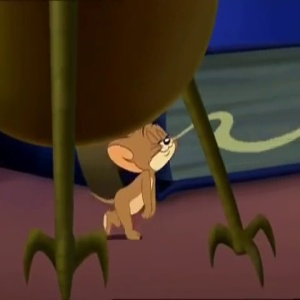Jerry: (106, 126, 177, 172)
